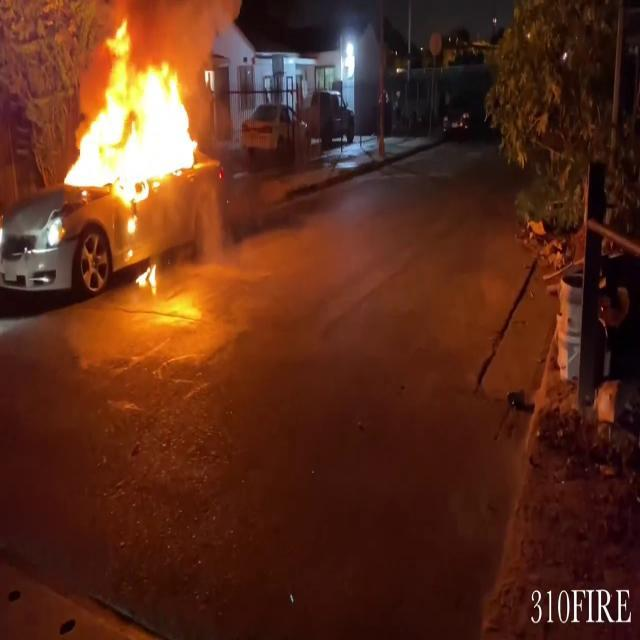Fire: (60, 13, 206, 206), (134, 258, 160, 296)
